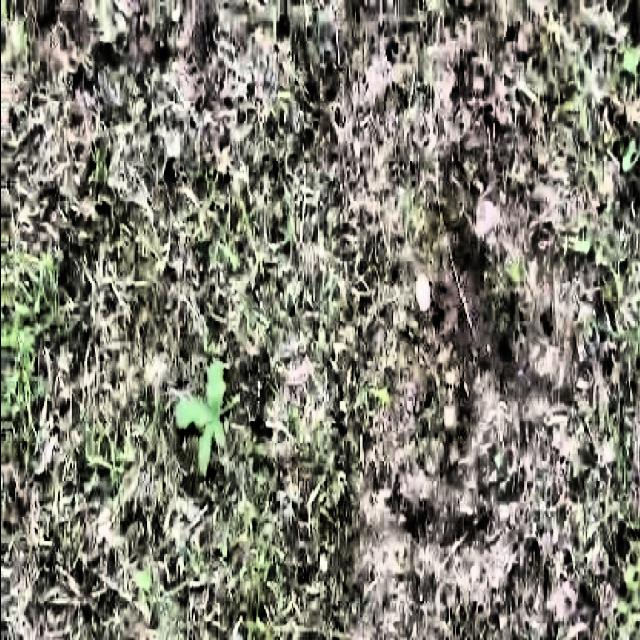Weeds: (168, 358, 232, 476)
